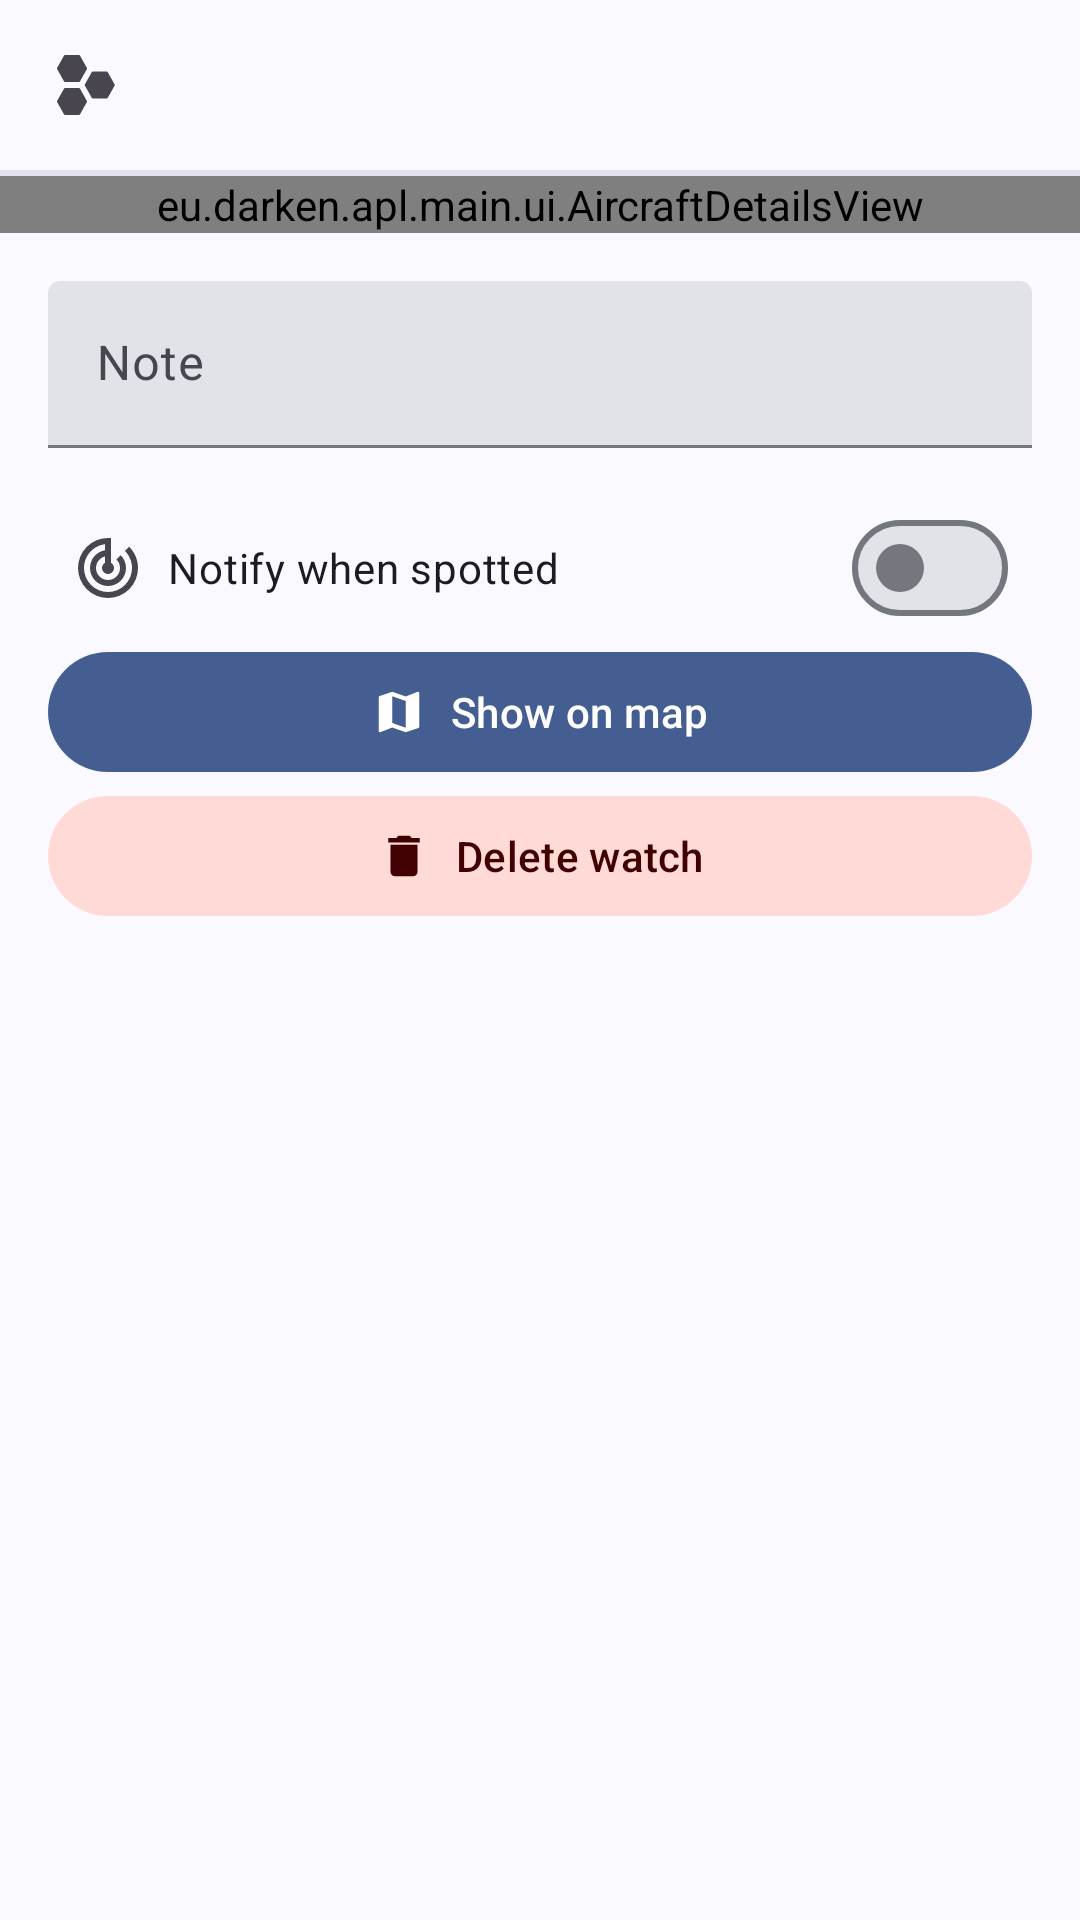

Named icons in this screenshot (1080 × 1920) and their bounding boxes, {"left": x1, "top": y1, "right": x2, "bottom": y2}:
hexagon multiple: {"left": 57, "top": 55, "right": 115, "bottom": 115}
